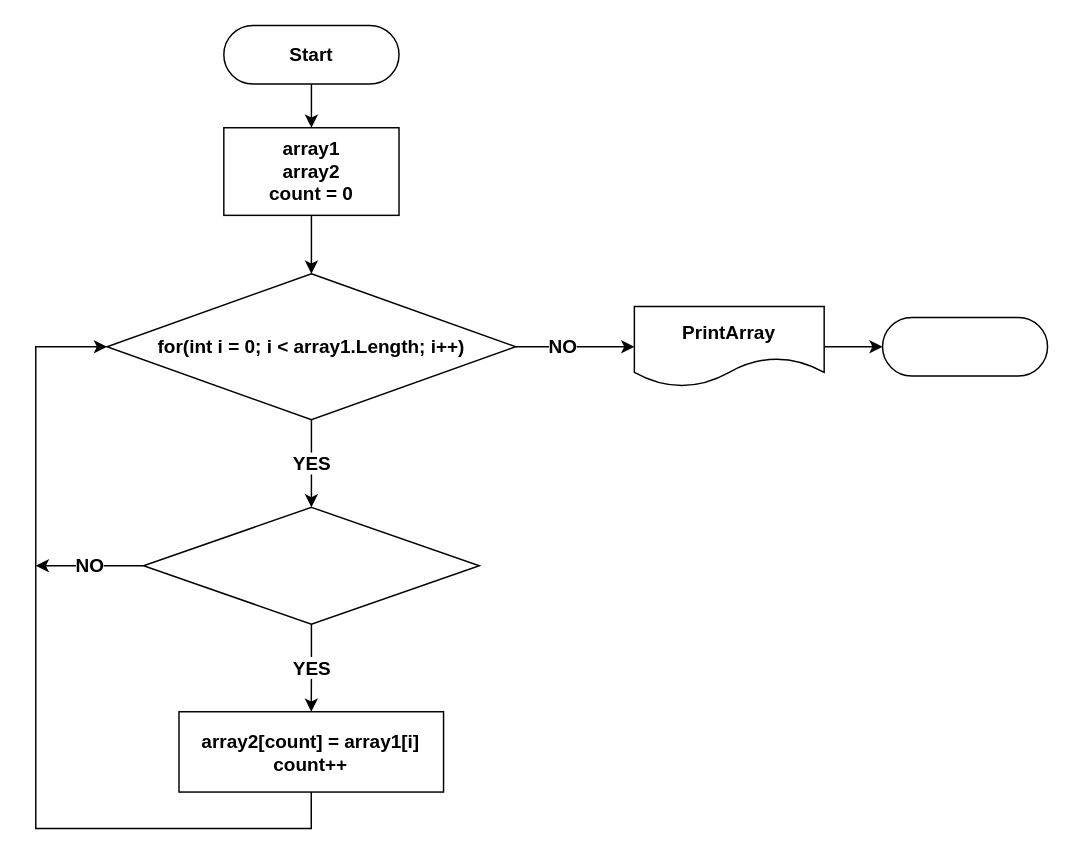
Some shapes in this 1073 by 866 pixel diagram are drawn without their labels. Here are the shapes that lost their labels. From the top down, the centre of each, then its label:
At pixel 964 346: "End".
At pixel 310 565: "if (array1[i].Length <= 3)".
